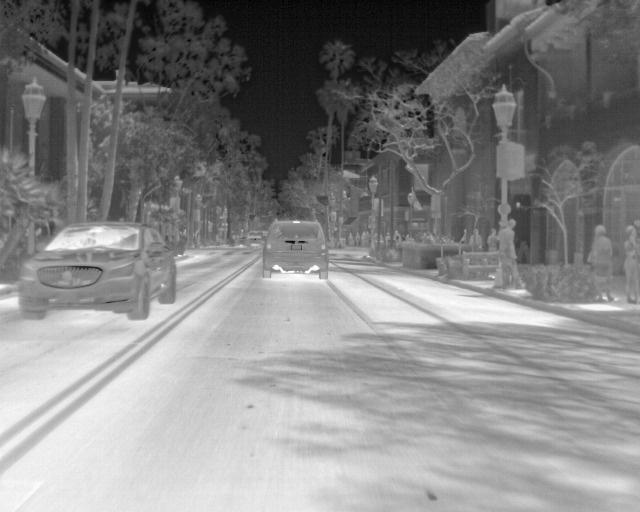bicycle: (19, 222, 174, 319), (260, 218, 330, 277), (245, 228, 264, 245)
empty: (588, 223, 615, 303), (497, 219, 521, 291), (622, 222, 639, 302), (468, 227, 484, 251), (485, 226, 498, 250), (345, 230, 355, 248), (353, 228, 361, 248), (392, 228, 402, 243), (384, 229, 394, 243)
